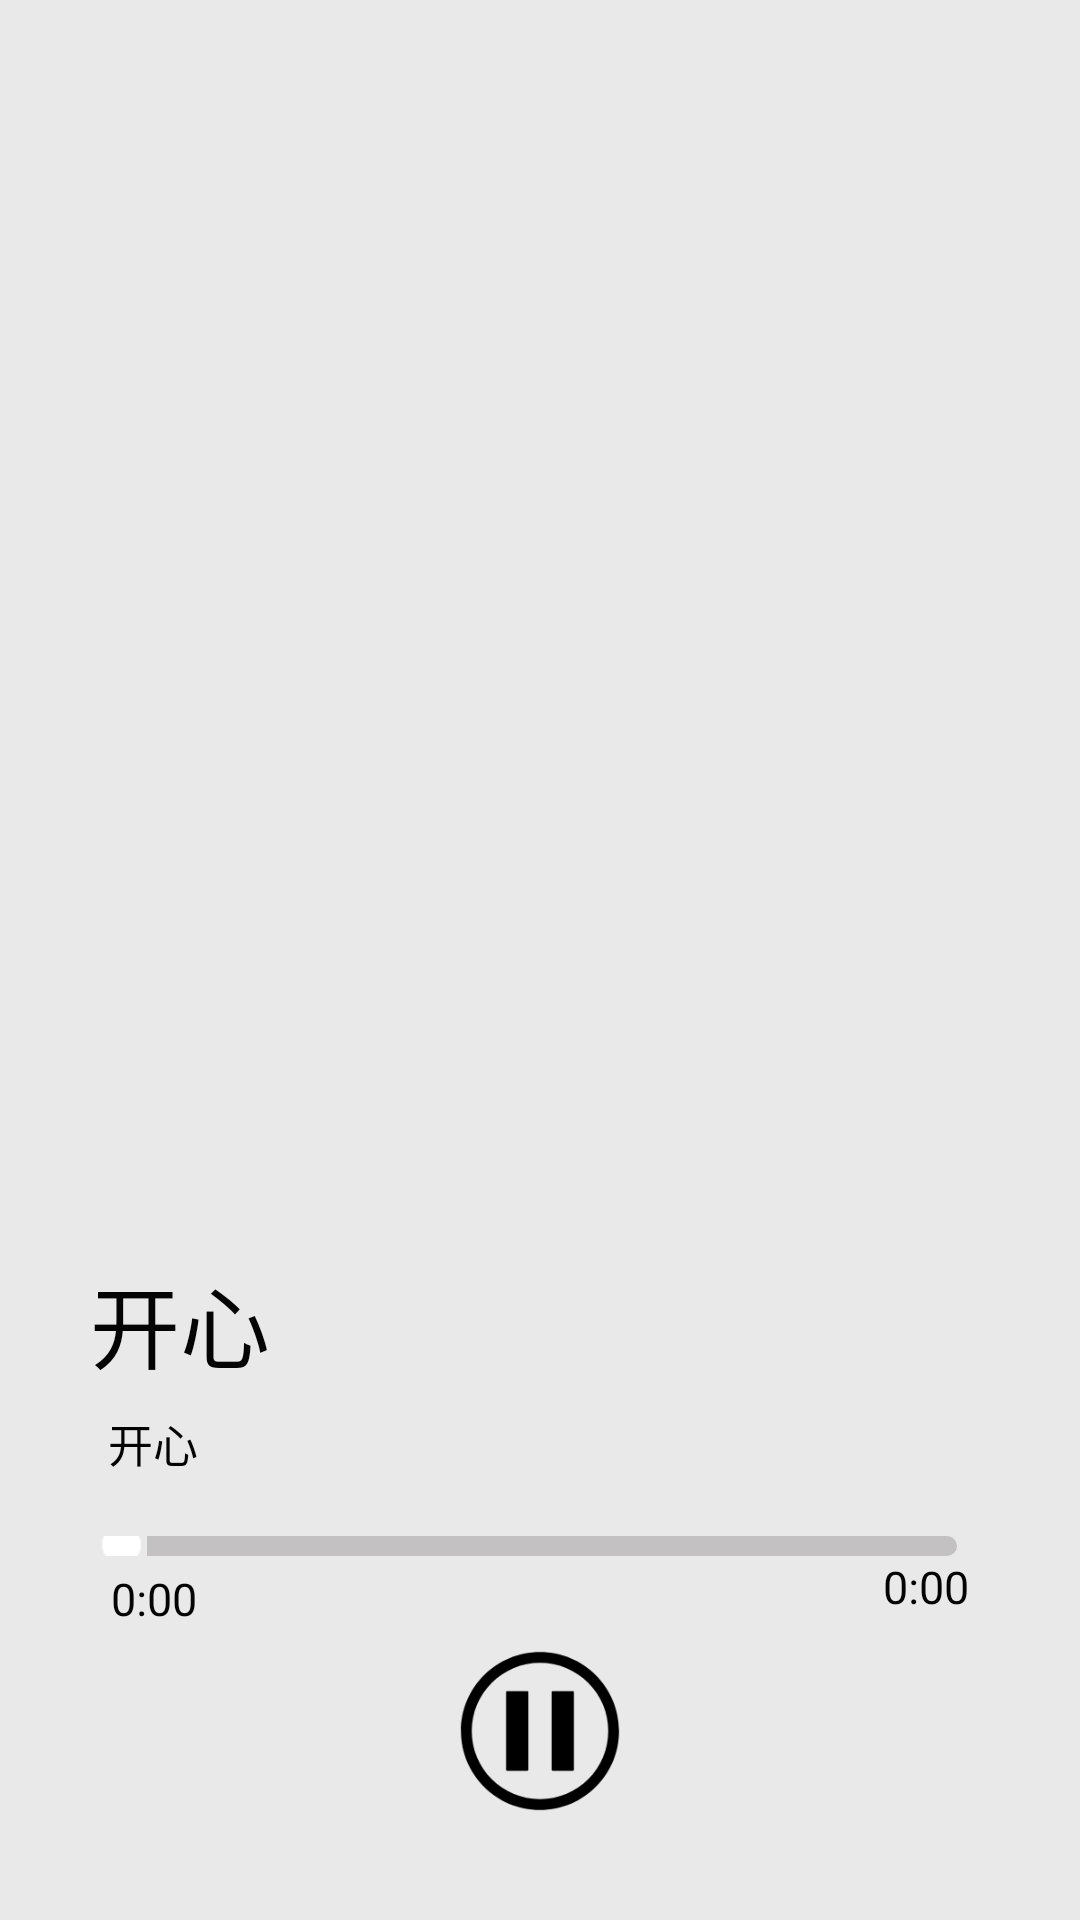

Icons on this 1080×1920 Android screen, each with its box as rect(x1, y1, x2, y2):
pause: rect(460, 1651, 620, 1811)
